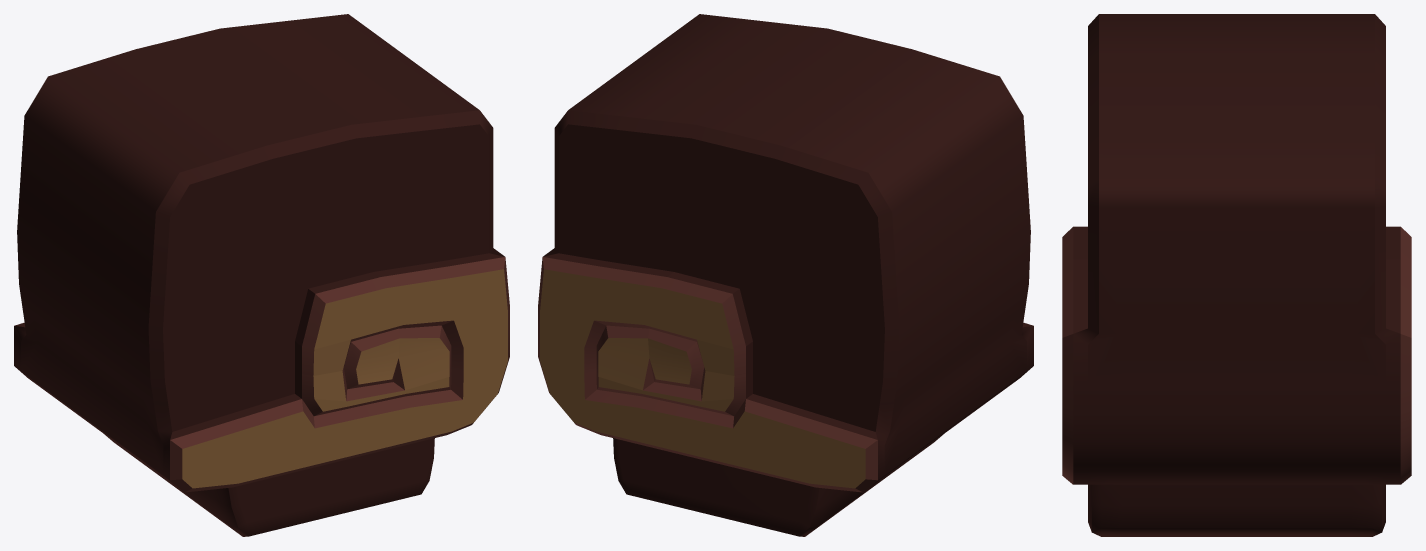
The model's file is SM_pietra_6.fbx.
The picture shows the model from 3 angles, left to right: view 1: azimuth 30°, elevation 25°; view 2: azimuth 150°, elevation 25°; view 3: azimuth 270°, elevation 25°; orthographic projection. The views are drawn at different scales.
Parts seen in each view (by area): view 1: SM_pietra_6; view 2: SM_pietra_6; view 3: SM_pietra_6.
Part boxes in pixels (bbox=[...]): SM_pietra_6: bbox=[14, 14, 509, 536]; SM_pietra_6: bbox=[538, 14, 1033, 536]; SM_pietra_6: bbox=[1062, 14, 1411, 536].
Bounding box in the file's own units: 982 × 1040 × 811.
